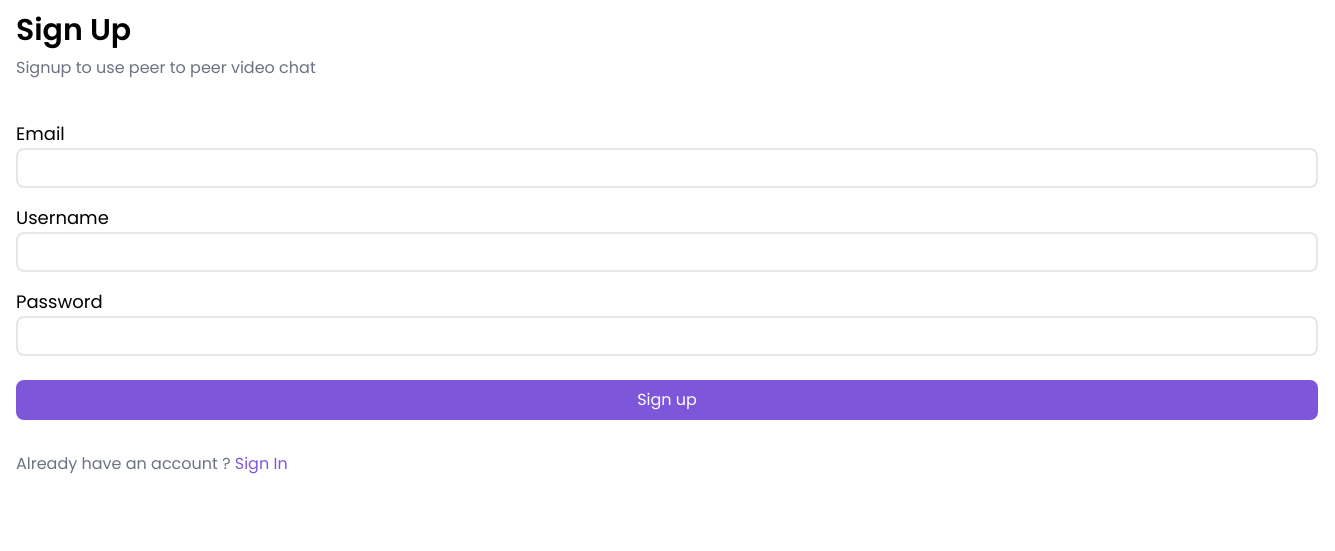
Test: Signup form › should render correct error on invalid email
Type "notvalidemail" into the field labelled "Email".
click(667, 168); type("notvalidemail")  # box left=16, top=148, right=1318, bottom=188
Then press Enter
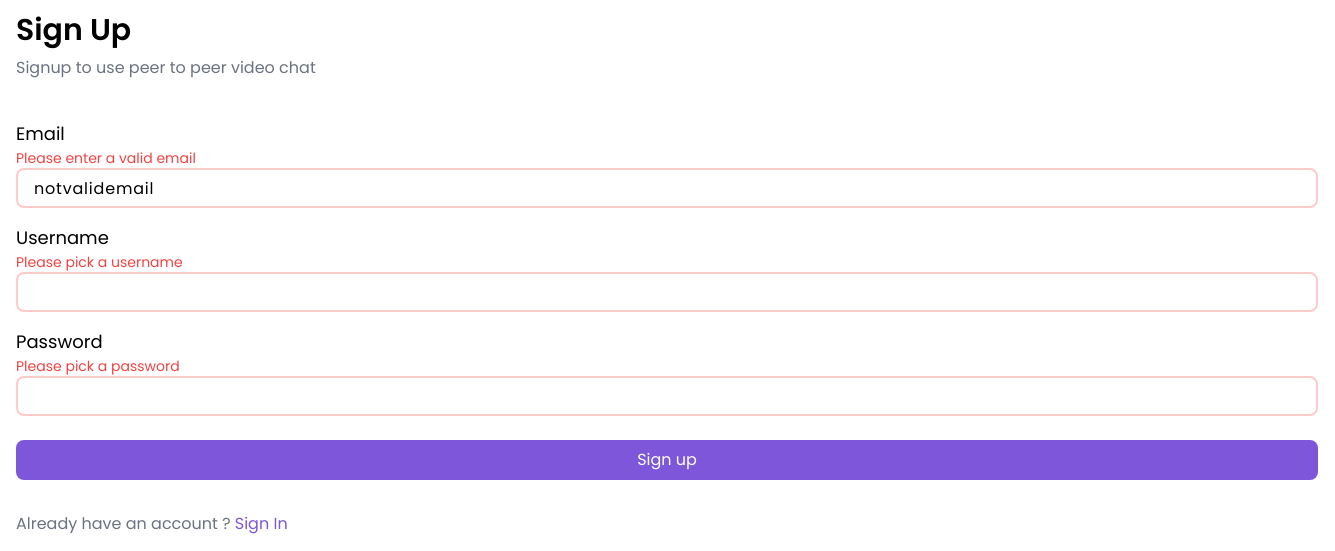
Expected: the text "Please enter a valid email" is shown, left=16, top=148, right=196, bottom=168
